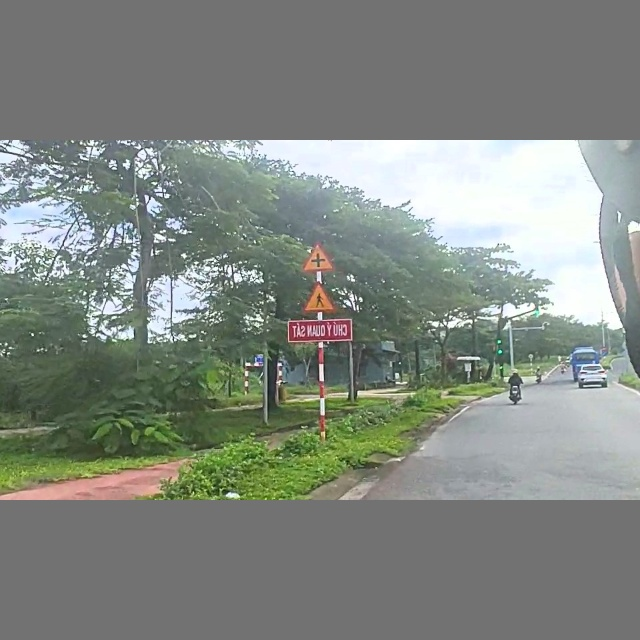W.205a: (299, 241, 337, 274)
W.224: (299, 280, 337, 313)
